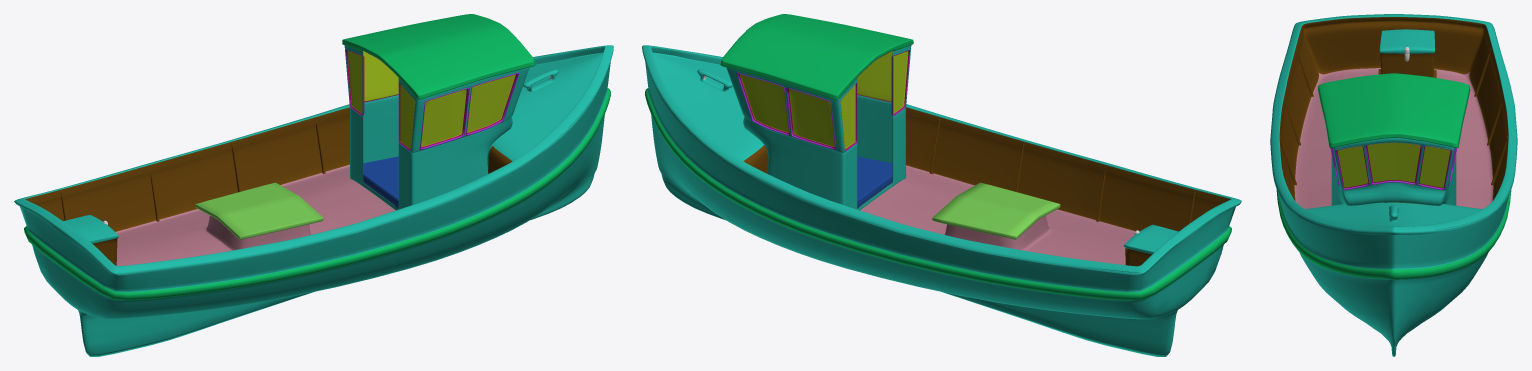
File: boat09.fbx
3 views of the same model, side by side, from view 1: azimuth 30°, elevation 25°; view 2: azimuth 150°, elevation 25°; view 3: azimuth 270°, elevation 25° (orthographic).
Parts seen in each view (by area): view 1: Boat_LOD0; view 2: Boat_LOD0; view 3: Boat_LOD0.
Boxes of the visible parts, x1,y1,x2,y2 form: Boat_LOD0: (14,14,613,356); Boat_LOD0: (642,14,1241,356); Boat_LOD0: (1270,14,1517,356).
Bounding box in the file's own units: 768 × 311 × 301.
